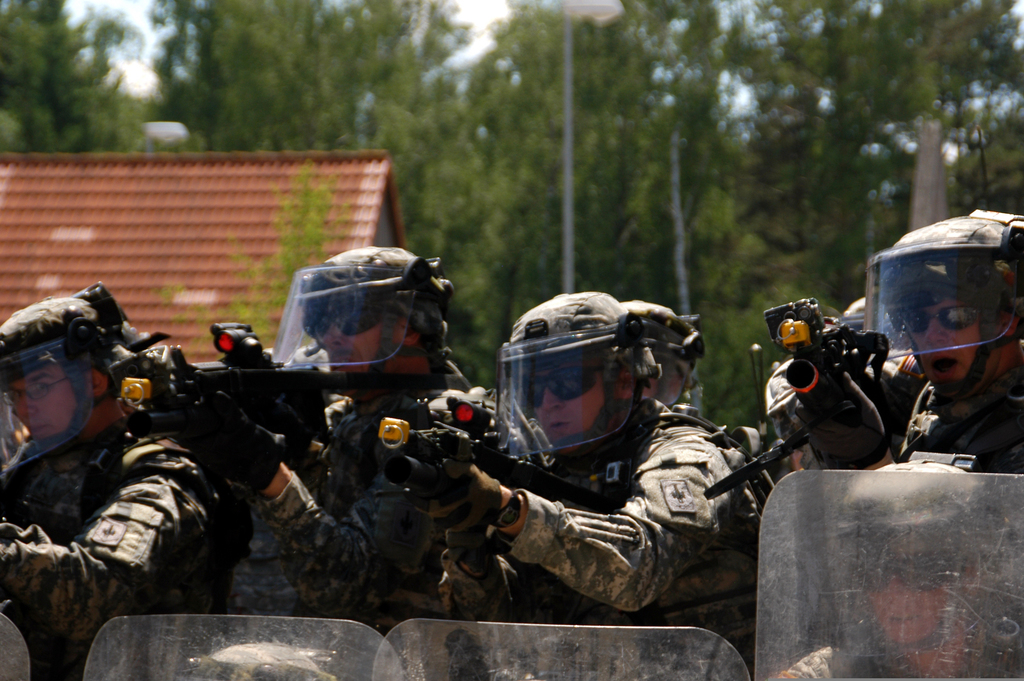Person: (0, 208, 1023, 677)
